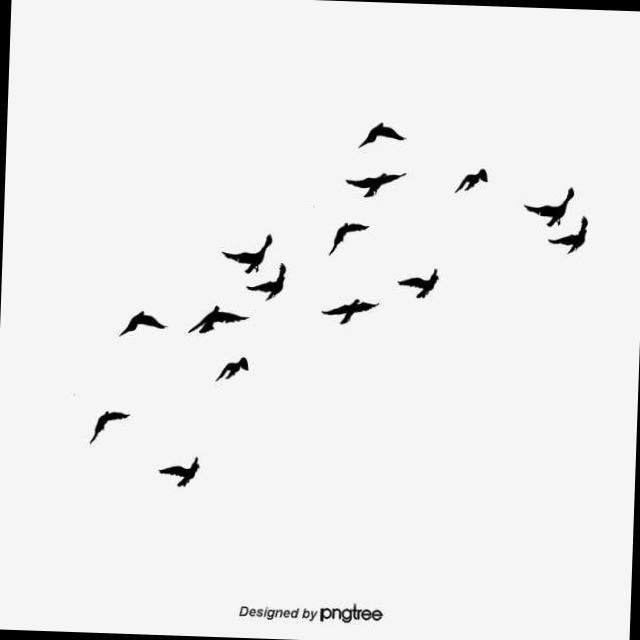bird: (519, 179, 577, 230), (219, 229, 279, 278), (186, 302, 251, 338), (243, 262, 295, 305), (324, 214, 373, 259), (342, 169, 408, 202), (319, 293, 380, 327), (155, 452, 205, 490), (547, 215, 592, 257), (114, 307, 171, 340), (86, 407, 132, 447), (392, 266, 444, 301), (356, 120, 409, 151), (451, 164, 493, 196), (213, 354, 251, 386)
